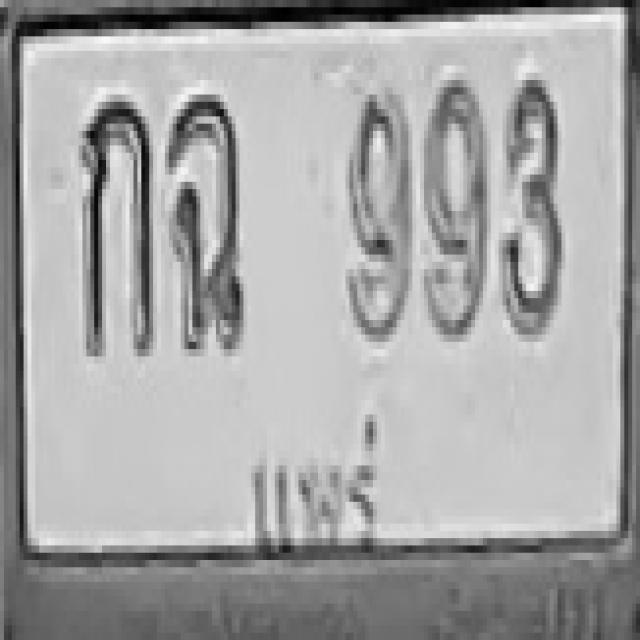10GorGai: (79, 95, 153, 356)
18ChorChing: (167, 91, 245, 353)
3: (501, 73, 564, 334)
9: (422, 73, 489, 342), (346, 87, 412, 342)
Phrae: (246, 418, 390, 567)
